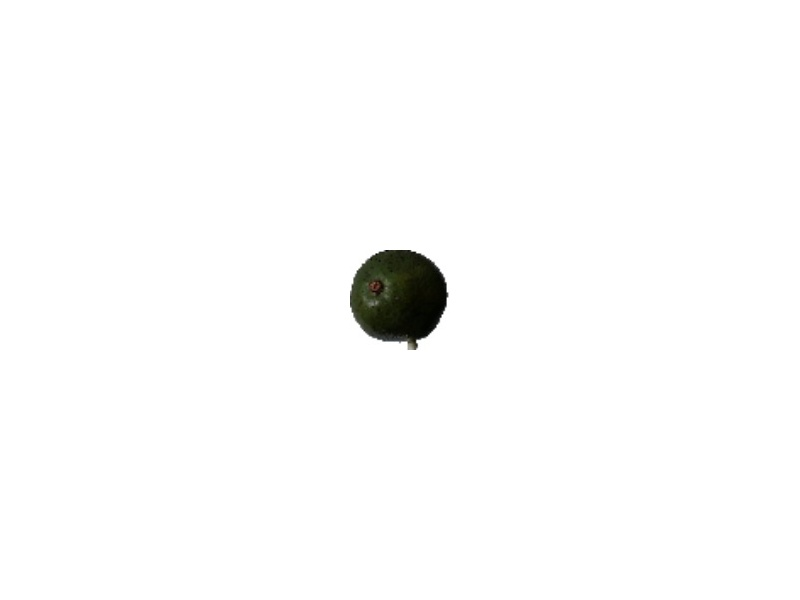abacate: (348, 249, 448, 342)
